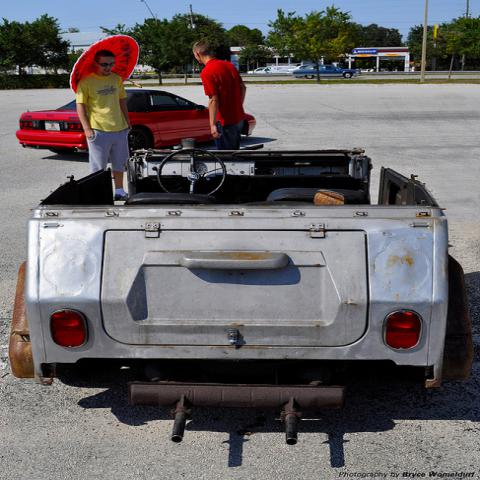car: (16, 89, 256, 157), (292, 64, 355, 79), (258, 66, 296, 74), (287, 65, 312, 74), (246, 68, 267, 74)
